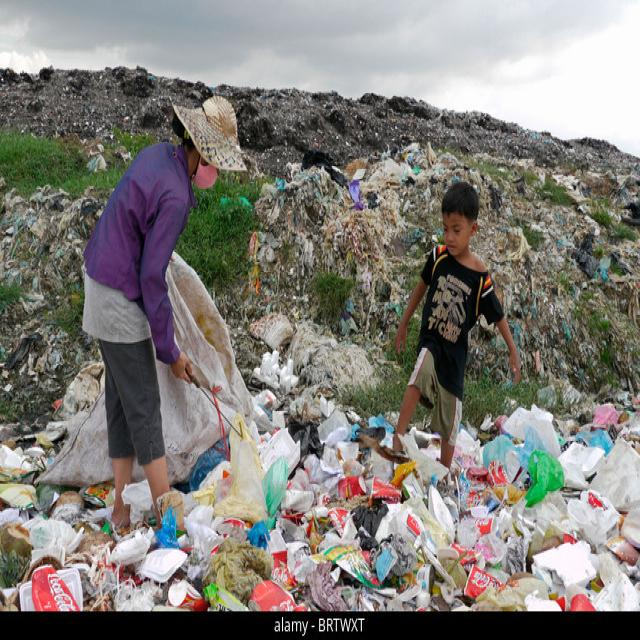metal: (30, 563, 87, 611)
plastic: (231, 518, 594, 608), (261, 362, 346, 474), (493, 437, 565, 494)
trash: (184, 306, 316, 538)
